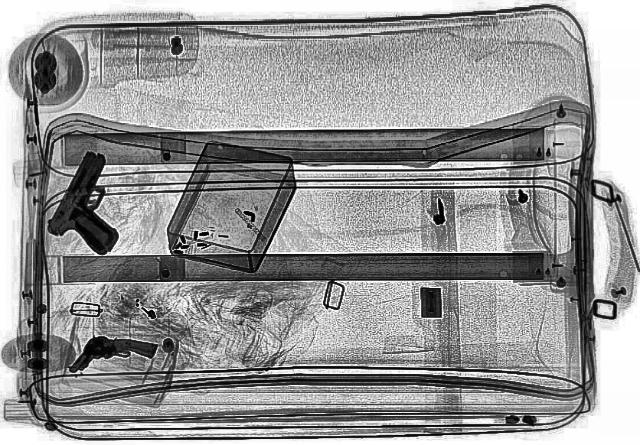Gun: (35, 147, 145, 255), (64, 332, 160, 382)
